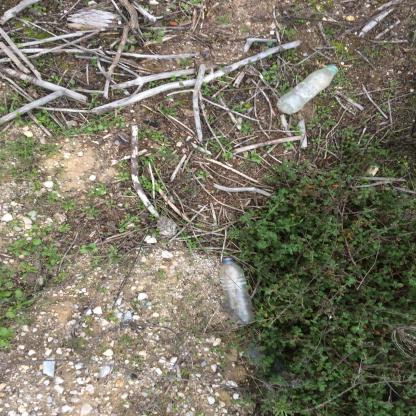Clear plastic bottle: (276, 64, 339, 114), (219, 257, 255, 324)
